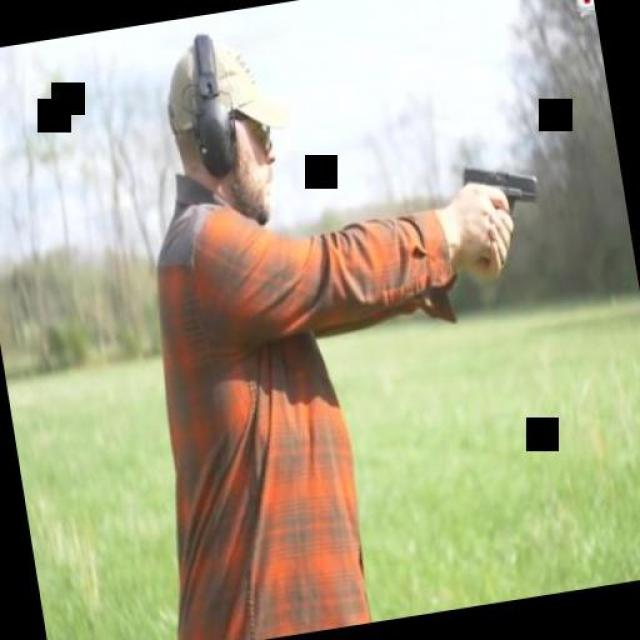gun: (452, 152, 550, 260)
